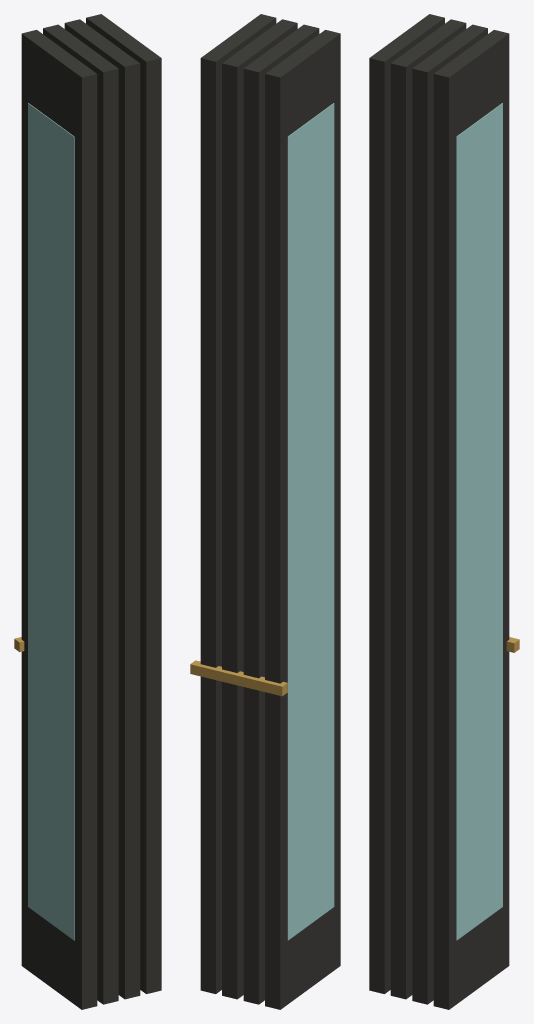
Rendered from lib_door_leaves.glb.
The picture shows the model from 3 angles, left to right: view 1: azimuth 30°, elevation 25°; view 2: azimuth 150°, elevation 25°; view 3: azimuth 330°, elevation 25°; orthographic projection.
Parts seen in each view (by area): view 1: leaves; view 2: leaves; view 3: leaves.
Boxes of the visible parts, x1,y1,x2,y2 form: leaves: (14,14,161,1009); leaves: (190,14,340,1009); leaves: (369,14,519,1009).
Bounding box in the file's own units: 0.3 × 2.9 × 0.355.
